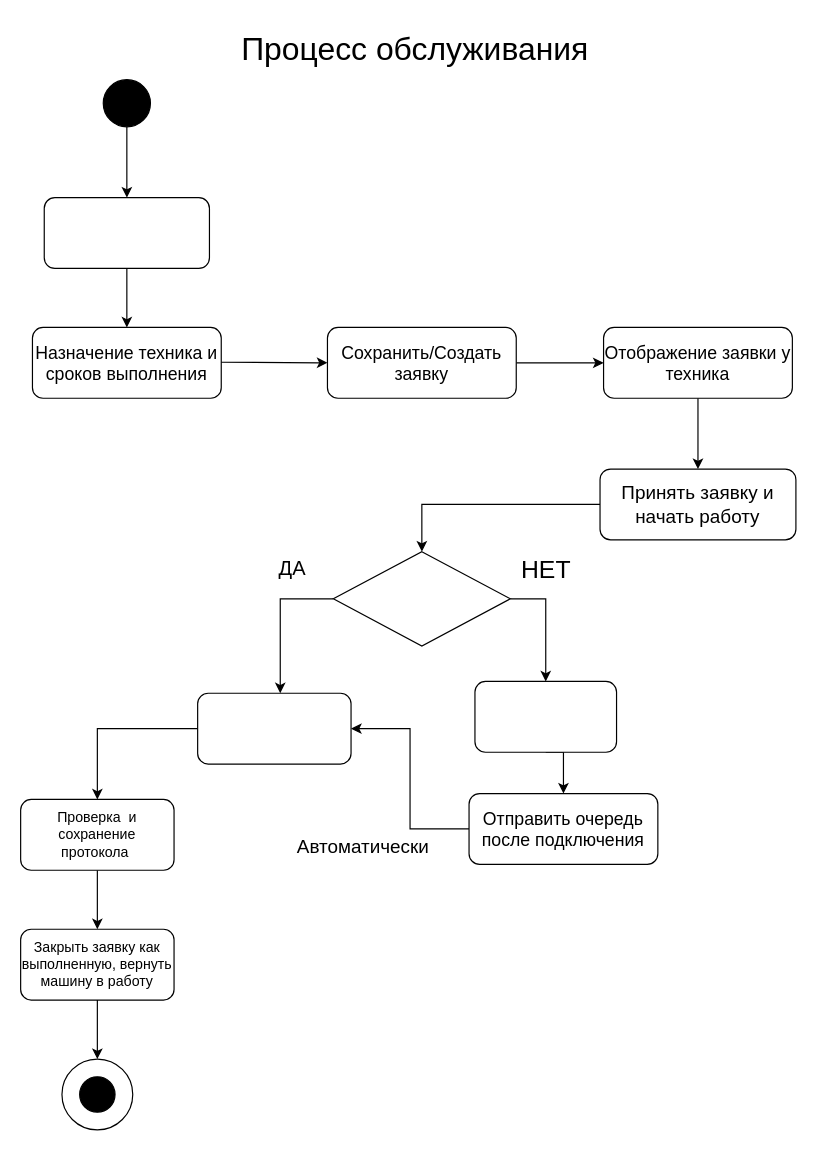
The diagram is 817 pixels wide and 1151 high, and some of its shapes have lost their labels. Each missing label, with the centre of its shape:
"Отправить протокол" belongs at point 273,728.
"Сеть есть?" belongs at point 421,598.
"Создать заявку на обслуживание" belongs at point 126,232.
"Сохранение протокола в телефоне" belongs at point 545,716.
